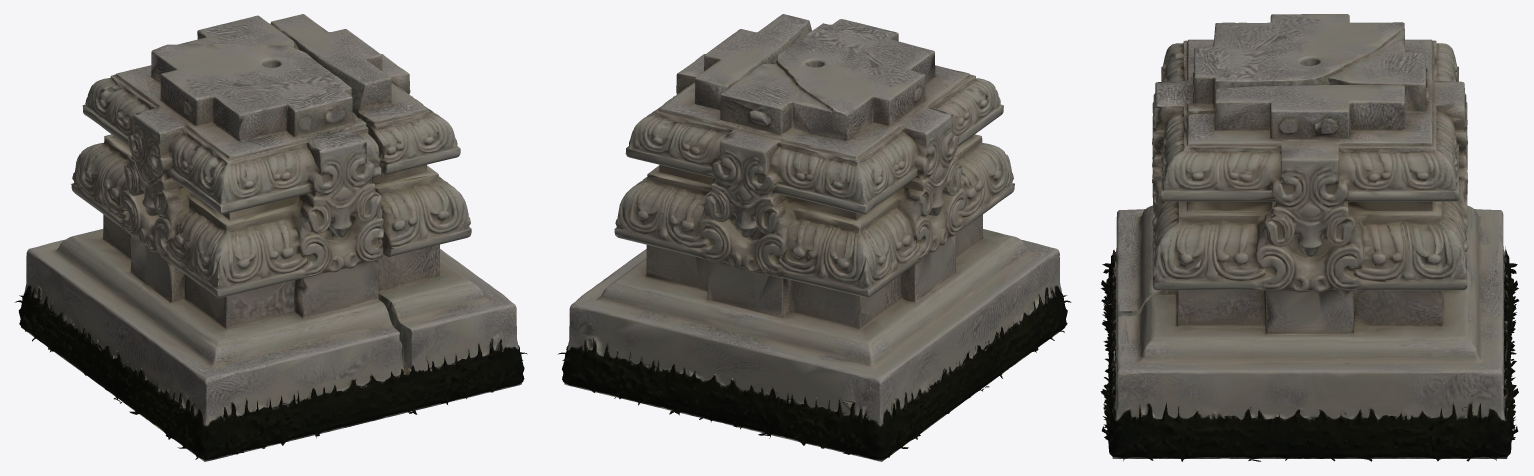
The model's file is granite-pillar-base-fragment-optimized.glb.
The picture shows the model from 3 angles, left to right: view 1: azimuth 30°, elevation 25°; view 2: azimuth 150°, elevation 25°; view 3: azimuth 270°, elevation 25°; orthographic projection. The views are drawn at different scales.
Visible parts, largest first — view 1: tripo_node_7c4ff5df-dbae-4081-9735-5124457a447a; view 2: tripo_node_7c4ff5df-dbae-4081-9735-5124457a447a; view 3: tripo_node_7c4ff5df-dbae-4081-9735-5124457a447a.
Part boxes in pixels (<box>): tripo_node_7c4ff5df-dbae-4081-9735-5124457a447a: <box>14,14,527,461</box>; tripo_node_7c4ff5df-dbae-4081-9735-5124457a447a: <box>558,14,1071,461</box>; tripo_node_7c4ff5df-dbae-4081-9735-5124457a447a: <box>1100,14,1518,461</box>.
Size of the model in its own units: 1.2 by 1.01 by 1.2.
1 material, 1 textured.
